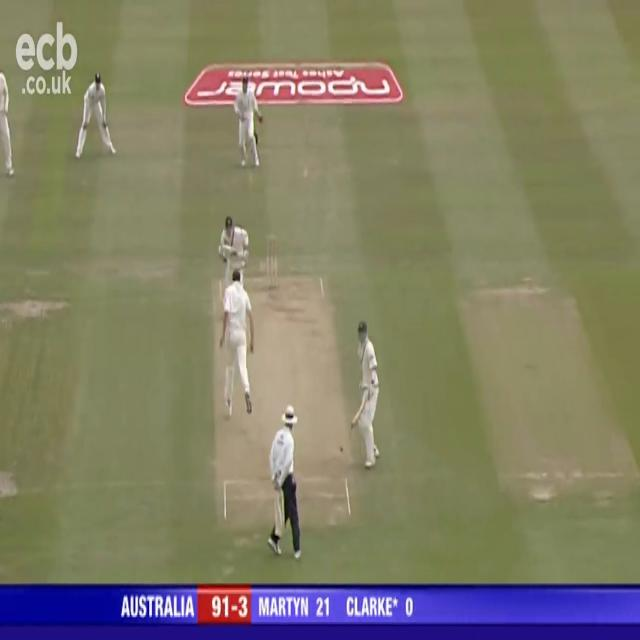ball: (338, 444, 344, 456)
